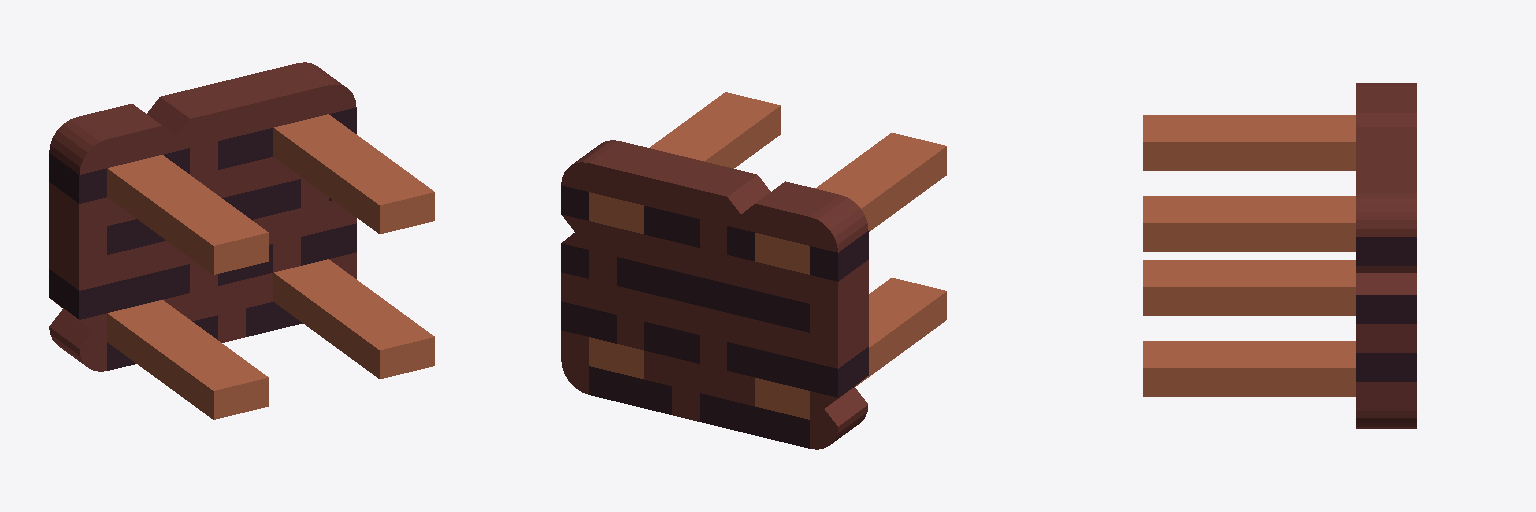
Rendered from table.obj.
The picture shows the model from 3 angles: view 1: azimuth 30°, elevation 25°; view 2: azimuth 150°, elevation 25°; view 3: azimuth 270°, elevation 25°; orthographic projection.
Size of the model in its own units: 10 by 8 by 8.55.